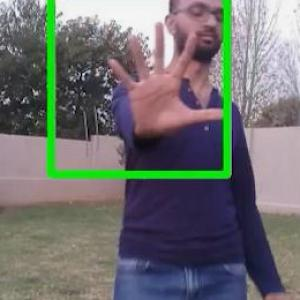follow_hand: (100, 16, 231, 141)
